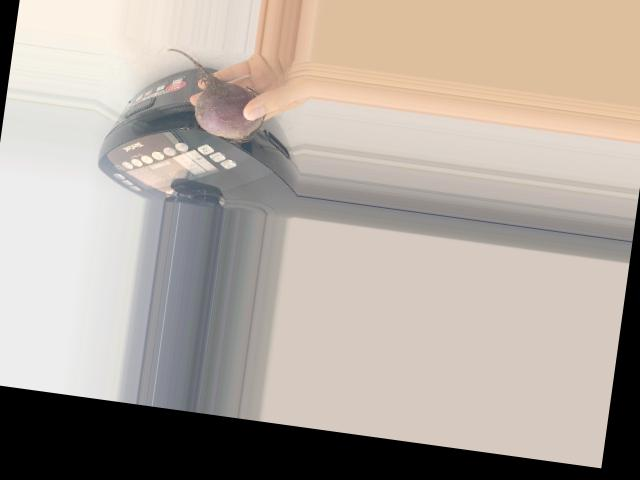beet: (156, 48, 271, 145)
